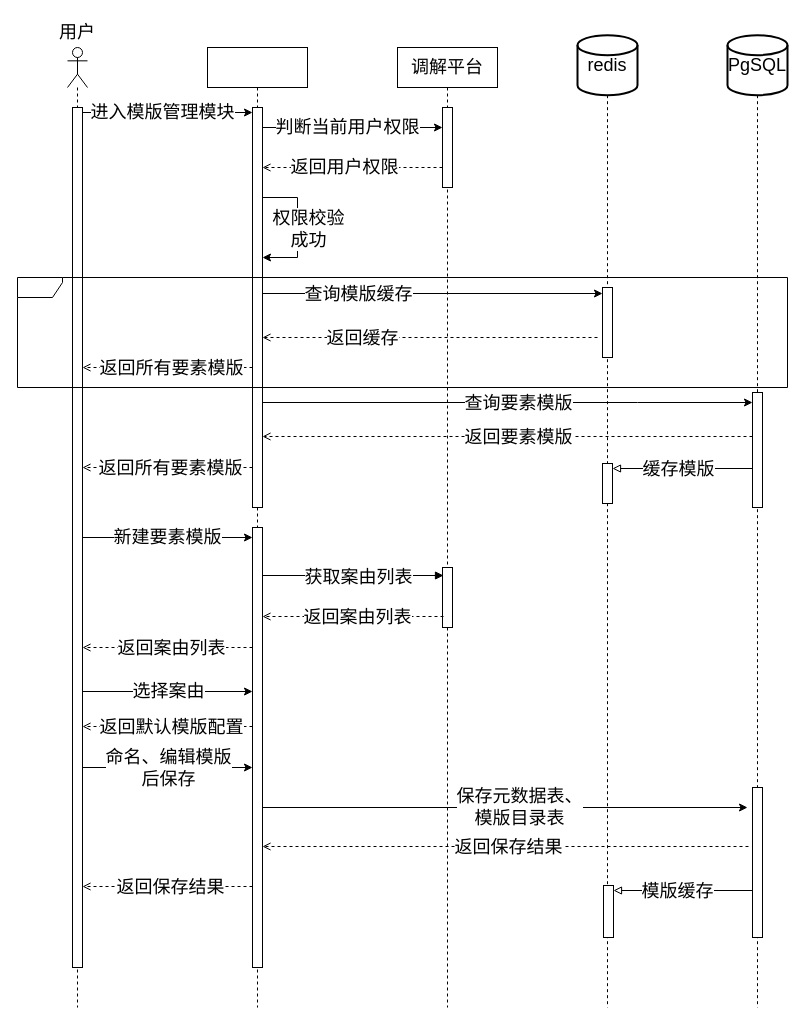
Some shapes in this 806 by 1026 pixel diagram are drawn without their labels. The shapes that lost their labels are listed below. From the top down, each one's centre as x and y in pixels, then its label:
(402,332): opt
(257,527): 智能辅助办案系统
